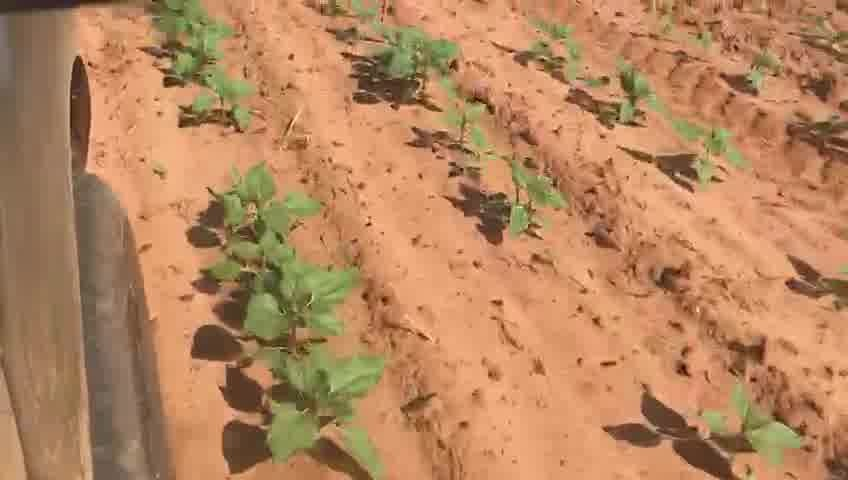sunflower: (249, 351, 388, 462), (243, 261, 355, 353), (697, 383, 805, 468), (223, 162, 327, 242), (362, 26, 458, 97), (499, 156, 571, 237), (206, 224, 302, 281), (675, 120, 749, 181), (187, 69, 258, 132), (529, 16, 591, 83), (598, 62, 659, 127), (161, 39, 224, 90), (444, 95, 496, 151)
